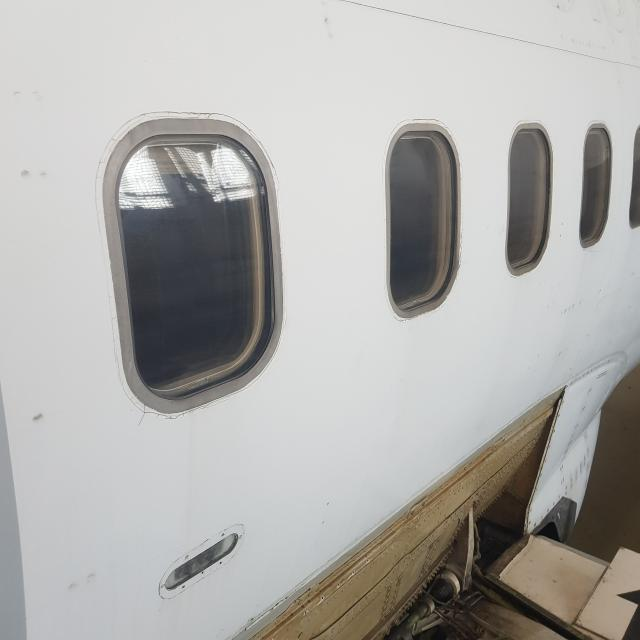crack: (134, 404, 164, 430)
